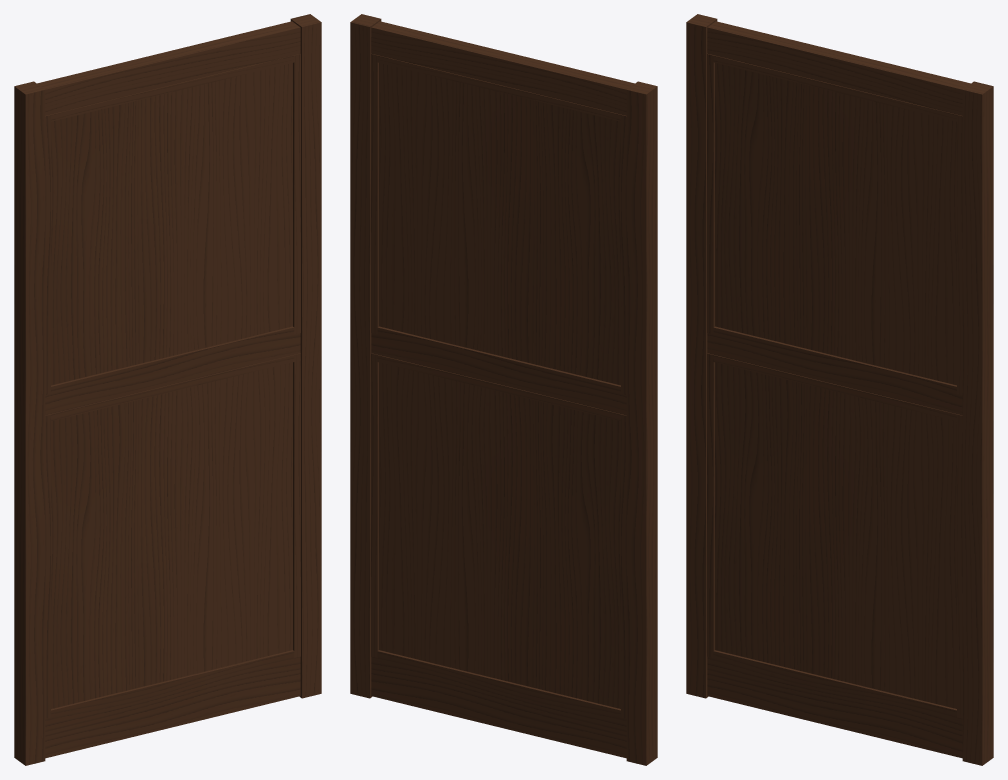
The model's file is X14_PART_Panel_Wood_090.glb.
3 views of the same model, side by side, from view 1: azimuth 30°, elevation 25°; view 2: azimuth 150°, elevation 25°; view 3: azimuth 330°, elevation 25° (orthographic).
Parts seen in each view (by area): view 1: X14_PART_Panel_Wood_090_LOD0; view 2: X14_PART_Panel_Wood_090_LOD0; view 3: X14_PART_Panel_Wood_090_LOD0.
Boxes of the visible parts, <box> form: X14_PART_Panel_Wood_090_LOD0: <box>14,14,321,765</box>; X14_PART_Panel_Wood_090_LOD0: <box>350,14,657,765</box>; X14_PART_Panel_Wood_090_LOD0: <box>686,14,993,765</box>.
Size of what is drawn, in the model's own units: 0.9 by 1.95 by 0.06.
1 material, 1 textured.
